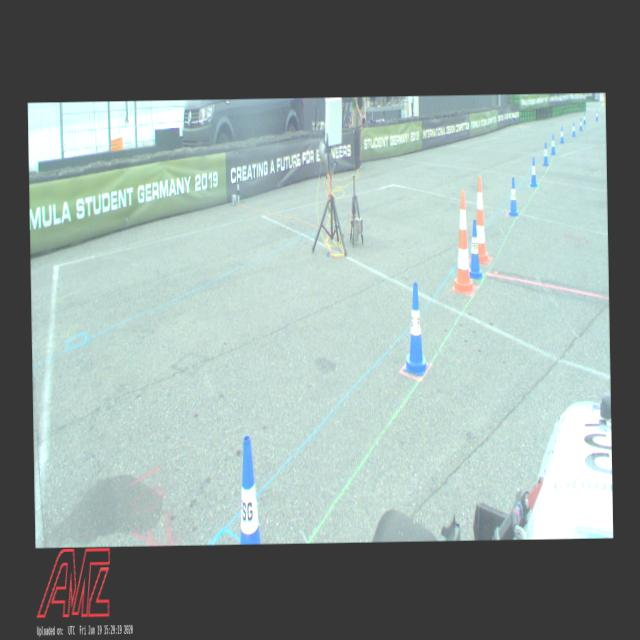blue_cone: (402, 282, 428, 376), (238, 434, 260, 544), (468, 220, 483, 280), (507, 176, 518, 216), (529, 157, 537, 187), (542, 141, 548, 166), (550, 134, 555, 154), (560, 126, 564, 144), (571, 122, 575, 137), (578, 118, 582, 130), (582, 113, 586, 124), (595, 110, 598, 120)
large_orange_cone: (450, 190, 474, 294), (476, 176, 490, 263)
